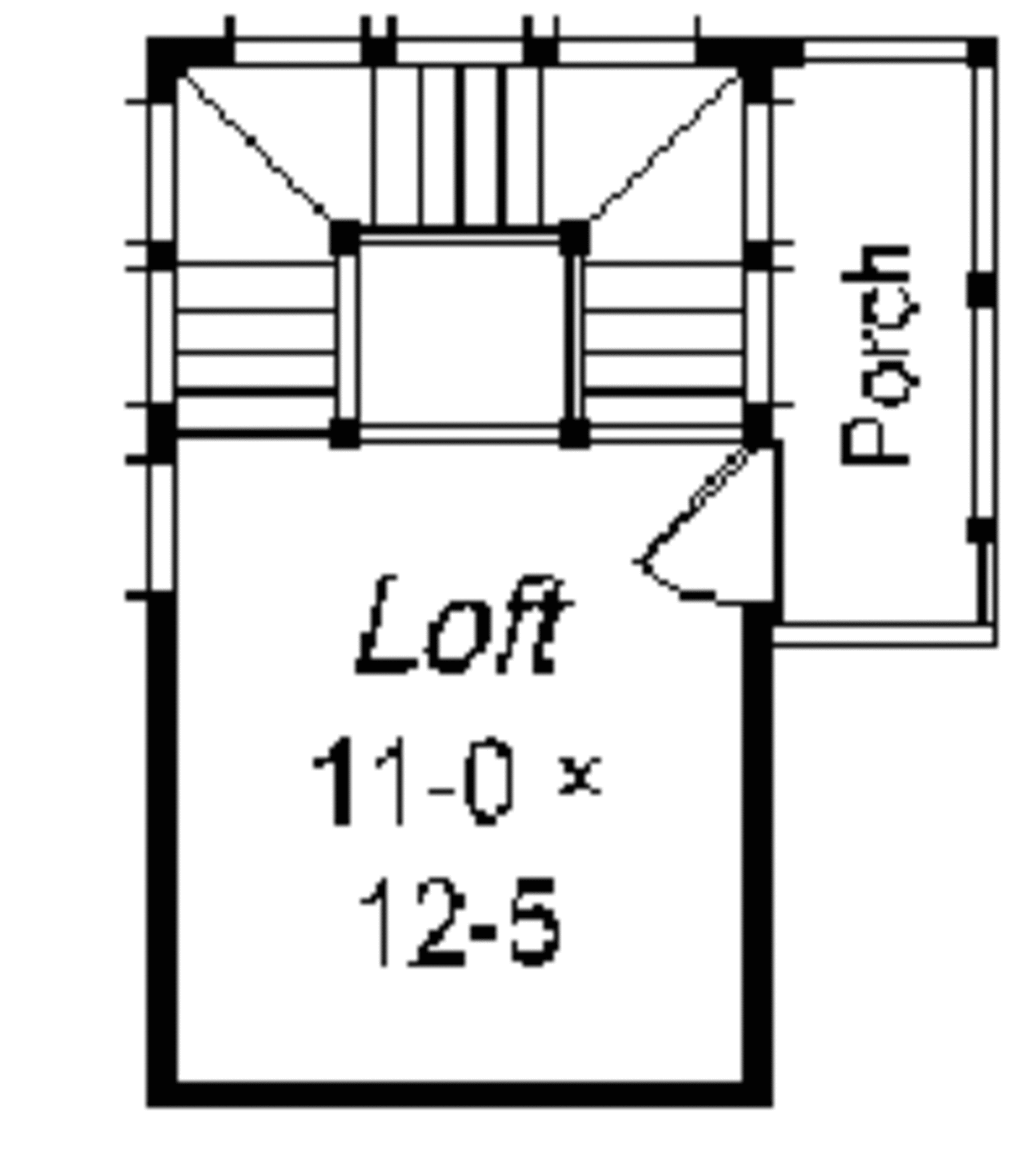door: (636, 446, 782, 612)
stairs: (175, 66, 755, 439)
